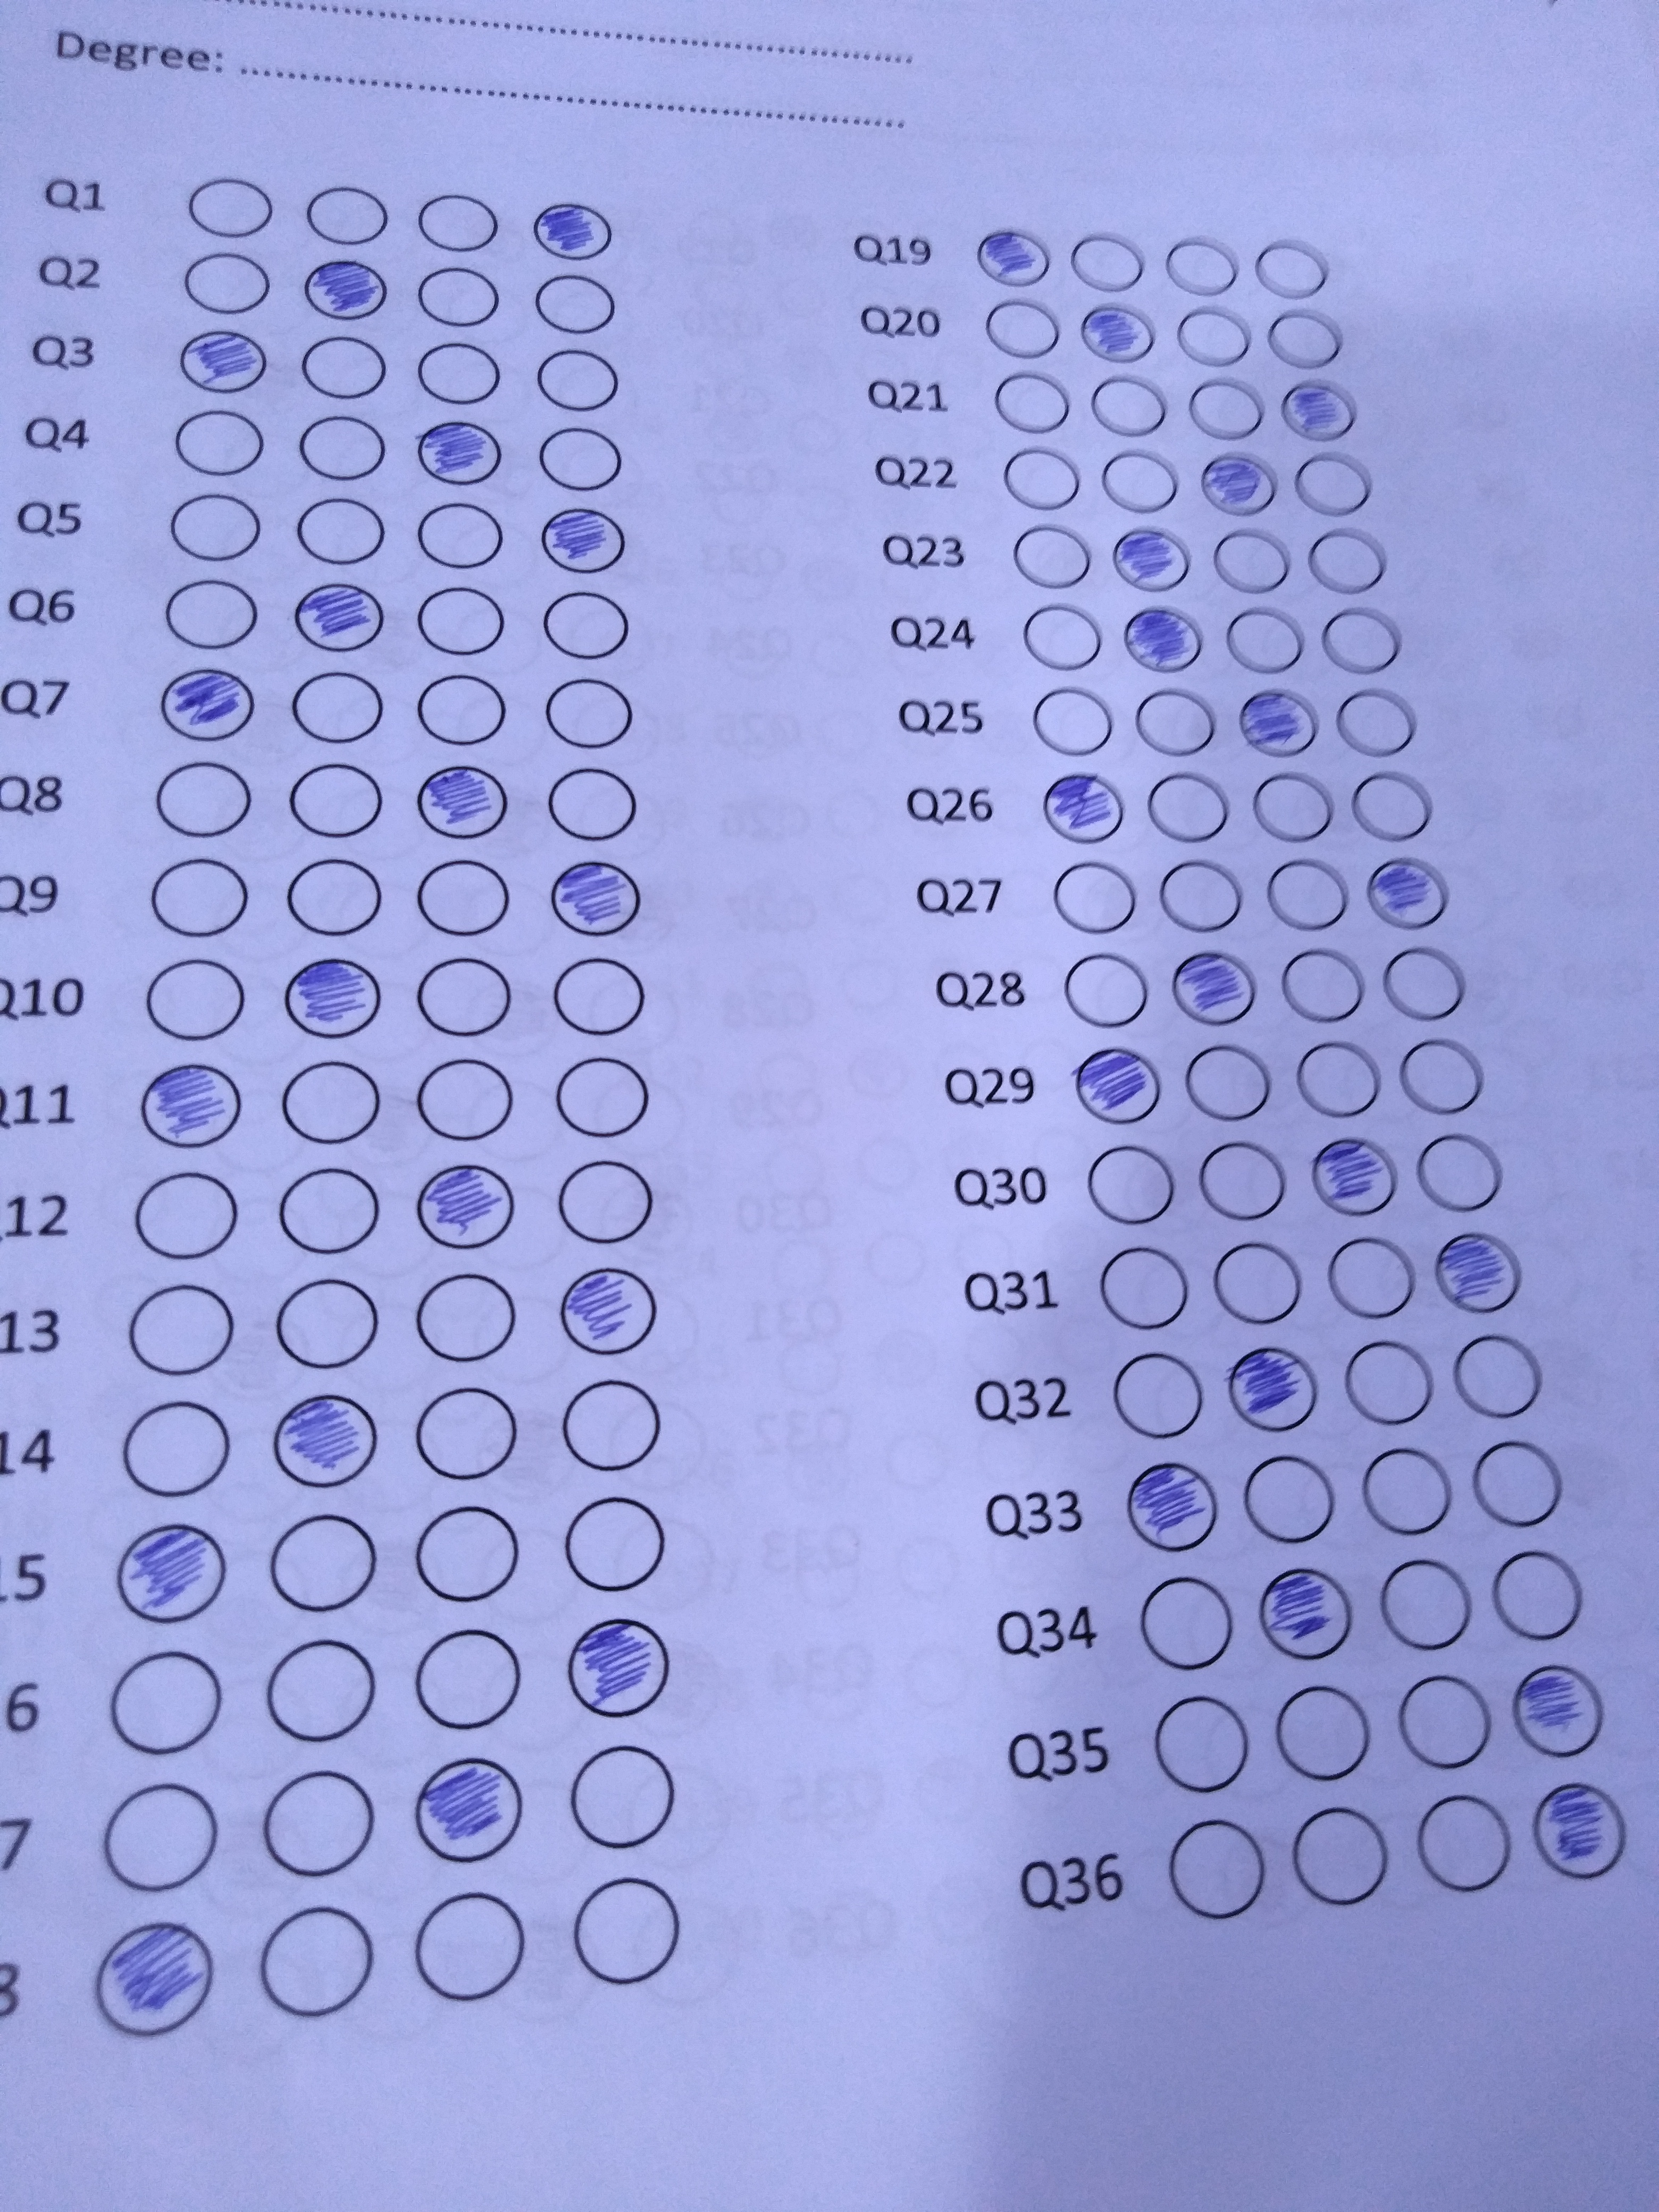not-c: (270, 1505, 382, 1622), (415, 1890, 526, 2006), (261, 1904, 373, 2020), (263, 1766, 375, 1883), (568, 1876, 680, 1991), (565, 1740, 676, 1855), (106, 1778, 218, 1893), (263, 1635, 375, 1750), (112, 1648, 223, 1763), (415, 1623, 525, 1740), (124, 1393, 230, 1503), (1166, 1815, 1270, 1925), (1373, 1550, 1478, 1660), (1392, 1667, 1497, 1777), (558, 1371, 662, 1480), (413, 1379, 518, 1489), (563, 1491, 667, 1601), (415, 1501, 519, 1611), (1413, 1791, 1518, 1900), (1150, 1691, 1255, 1799), (1272, 1679, 1375, 1789), (1290, 1803, 1392, 1912), (1138, 1569, 1241, 1677), (272, 1275, 385, 1372), (129, 1277, 237, 1376), (1110, 1345, 1206, 1449), (132, 1170, 242, 1261), (1209, 1230, 1305, 1332), (1324, 1228, 1420, 1331), (1342, 1334, 1438, 1437), (1471, 1435, 1567, 1538), (1358, 1440, 1453, 1543), (1241, 1446, 1337, 1548), (1488, 1543, 1584, 1644), (277, 1167, 380, 1256), (1096, 1242, 1192, 1336), (1452, 1327, 1546, 1423), (1084, 1137, 1180, 1231), (1195, 1134, 1291, 1228), (1413, 1125, 1509, 1219), (416, 1271, 516, 1362), (284, 859, 387, 939), (418, 1057, 516, 1141), (282, 1061, 380, 1144), (556, 1158, 653, 1242), (551, 954, 648, 1038), (554, 1055, 652, 1139), (155, 756, 253, 840), (152, 853, 249, 937), (416, 857, 518, 937), (416, 956, 512, 1040), (146, 958, 244, 1040), (288, 761, 387, 840), (291, 667, 387, 747), (166, 577, 263, 653), (1281, 946, 1370, 1028), (1009, 516, 1098, 597), (1263, 855, 1354, 935), (540, 585, 631, 665), (1317, 603, 1408, 683), (1028, 681, 1117, 761), (1131, 685, 1220, 765), (1331, 681, 1420, 761), (547, 766, 636, 846), (1349, 766, 1438, 846), (1249, 768, 1338, 848), (1145, 768, 1234, 848), (1155, 855, 1244, 935), (1051, 859, 1140, 939), (1061, 951, 1150, 1031), (1380, 944, 1469, 1024), (1398, 1036, 1486, 1116), (1293, 1040, 1382, 1120), (1183, 1043, 1272, 1123), (545, 671, 634, 751), (416, 671, 505, 751), (416, 580, 505, 660), (1290, 444, 1378, 524), (1303, 521, 1392, 601), (1208, 523, 1297, 603), (1222, 603, 1310, 683), (1021, 599, 1110, 679), (298, 179, 392, 253), (411, 338, 505, 411), (532, 421, 624, 495), (528, 266, 620, 340), (415, 261, 507, 334), (411, 185, 504, 258), (173, 408, 265, 481), (298, 413, 390, 486), (415, 498, 507, 571), (295, 493, 387, 566), (171, 493, 263, 566), (533, 345, 626, 416), (186, 172, 279, 244), (183, 249, 275, 320), (298, 331, 390, 402), (990, 369, 1072, 439), (1066, 230, 1148, 294), (1265, 308, 1345, 371), (1187, 378, 1267, 441), (1100, 449, 1180, 512), (1000, 449, 1080, 512), (1175, 307, 1255, 369), (983, 298, 1063, 361), (1253, 240, 1331, 303), (1091, 376, 1169, 439), (1162, 237, 1241, 300)
taken-c: (94, 1918, 214, 2038), (413, 1756, 526, 1865), (565, 1615, 673, 1719), (115, 1522, 225, 1623), (1528, 1778, 1631, 1883), (272, 1393, 382, 1489), (556, 1266, 660, 1359), (1124, 1458, 1220, 1554), (1511, 1662, 1607, 1757), (1256, 1568, 1352, 1663), (415, 1163, 518, 1252), (141, 1061, 244, 1150), (1225, 1345, 1326, 1433), (1305, 1136, 1405, 1221), (286, 956, 387, 1040), (1070, 1045, 1168, 1130), (1068, 1045, 1168, 1129), (1429, 1230, 1528, 1313), (159, 665, 261, 745), (288, 577, 390, 657), (545, 859, 648, 937), (415, 765, 518, 843), (1168, 951, 1262, 1028), (535, 503, 633, 577), (178, 326, 275, 397), (303, 254, 397, 326), (1039, 772, 1126, 848), (411, 420, 507, 489), (1366, 855, 1453, 932), (1119, 601, 1206, 678), (1110, 519, 1197, 596), (1234, 686, 1321, 761), (1195, 451, 1281, 519), (530, 199, 615, 265), (1075, 300, 1155, 368), (1279, 380, 1361, 444), (971, 228, 1054, 291)
